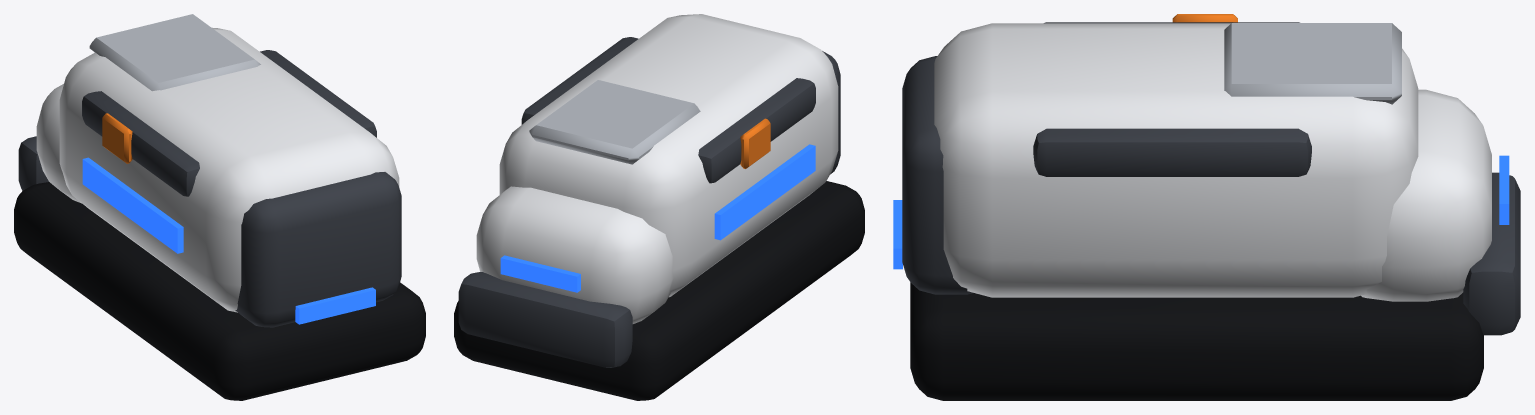
The model's file is boot_l.glb.
The picture shows the model from 3 angles, left to right: view 1: azimuth 30°, elevation 25°; view 2: azimuth 150°, elevation 25°; view 3: azimuth 270°, elevation 25°; orthographic projection. The views are drawn at different scales.
Visible parts, largest first — view 1: BootL_Suit_White, BootL_Rubber, BootL_Metal_Dark, BootL_Suit_Grey, BootL_Strip_Blue, BootL_Suit_Orange; view 2: BootL_Suit_White, BootL_Rubber, BootL_Metal_Dark, BootL_Suit_Grey, BootL_Strip_Blue, BootL_Suit_Orange; view 3: BootL_Suit_White, BootL_Rubber, BootL_Metal_Dark, BootL_Suit_Grey, BootL_Strip_Blue, BootL_Suit_Orange.
Part boxes in pixels (x1,y1,x2,y2): BootL_Suit_White: (36,27,399,312); BootL_Rubber: (14,182,425,400); BootL_Metal_Dark: (18,50,401,327); BootL_Suit_Grey: (89,14,260,91); BootL_Strip_Blue: (82,157,375,324); BootL_Suit_Orange: (102,113,132,163); BootL_Suit_White: (476,14,838,323); BootL_Rubber: (454,181,864,400); BootL_Metal_Dark: (458,37,840,367); BootL_Suit_Grey: (529,80,700,164); BootL_Strip_Blue: (500,144,815,292); BootL_Suit_Orange: (740,118,770,168); BootL_Suit_White: (934,23,1491,301); BootL_Rubber: (910,282,1483,400); BootL_Metal_Dark: (902,22,1520,335); BootL_Suit_Grey: (1224,23,1401,104); BootL_Strip_Blue: (893,155,1509,269); BootL_Suit_Orange: (1172,14,1237,22).
Bounding box in the file's own units: 0.19 × 0.197 × 0.383.
